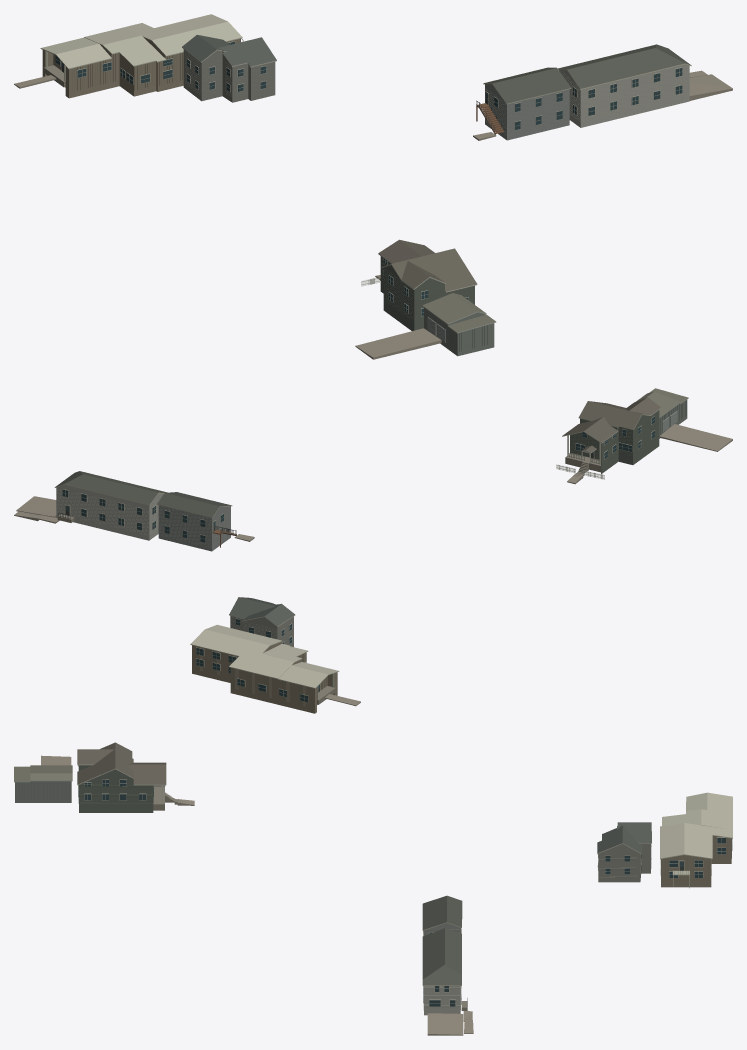
File: site.glb
3 renders of one model, top to bottom at view 1: azimuth 30°, elevation 25°; view 2: azimuth 150°, elevation 25°; view 3: azimuth 270°, elevation 25°, orthographic. The views are drawn at different scales.
Visible parts, largest first — view 1: roof-27720a8d, roof-b0cb5ef5, roof-48d494fc, onyx-alley-1840, onyx-1870-west, e19-1208-rear-garage, onyx-university-walks; view 2: roof-27720a8d, roof-48d494fc, roof-b0cb5ef5, onyx-1870-west, onyx-university-walks, onyx-alley-1840, e19-1208-rear-garage; view 3: roof-27720a8d, roof-48d494fc, roof-b0cb5ef5, onyx-alley-1840, e19-1208-rear-garage, onyx-university-walks, onyx-1870-west.
Boxes of the visible parts, box(x1,y1,x2,y2) form: roof-27720a8d: box(40, 14, 243, 98); roof-b0cb5ef5: box(558, 44, 691, 127); roof-48d494fc: box(361, 239, 477, 330); onyx-alley-1840: box(182, 34, 276, 102); onyx-1870-west: box(476, 67, 571, 140); e19-1208-rear-garage: box(422, 293, 496, 356); onyx-university-walks: box(14, 70, 732, 359); roof-27720a8d: box(190, 624, 339, 713); roof-48d494fc: box(556, 397, 661, 479); roof-b0cb5ef5: box(54, 471, 167, 540); onyx-1870-west: box(157, 492, 236, 551); onyx-university-walks: box(14, 424, 732, 706); onyx-alley-1840: box(229, 597, 295, 646); e19-1208-rear-garage: box(636, 388, 688, 438); roof-27720a8d: box(660, 792, 732, 888); roof-48d494fc: box(77, 742, 166, 812); roof-b0cb5ef5: box(422, 928, 467, 1015); onyx-alley-1840: box(597, 822, 651, 882); e19-1208-rear-garage: box(14, 765, 72, 802); onyx-university-walks: box(41, 755, 473, 1035); onyx-1870-west: box(422, 895, 462, 935).
Bounding box in the file's own units: 108 × 15.88 × 135.
